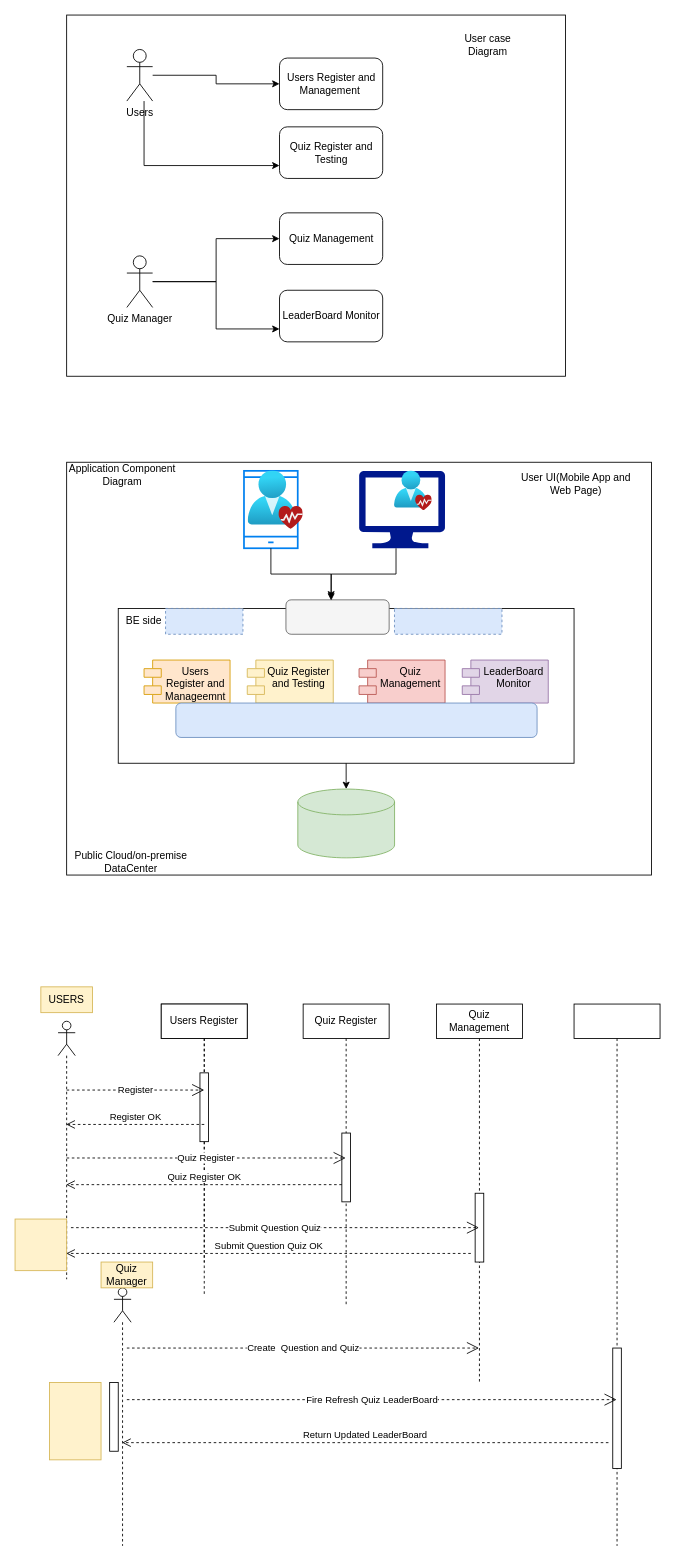
The diagram is 675 pixels wide and 1561 high, and some of its shapes have lost their labels. Each missing label, with the box of its shape:
API Gateway: (285, 599, 389, 634)
Java Spring Boot Service: (165, 608, 243, 634)
LeaderBoard: (573, 1003, 660, 1546)
Loop submit Quiz Questions: (14, 1218, 67, 1271)
Loop until Quiz session completed: (49, 1382, 101, 1460)
Message Bus Layer (RabbitMQ/Kafka): (175, 702, 537, 737)
Quiz DB (PostgreSQL): (297, 788, 395, 858)
Spring Cloud/Cloud Service Gateway: (394, 608, 502, 634)
